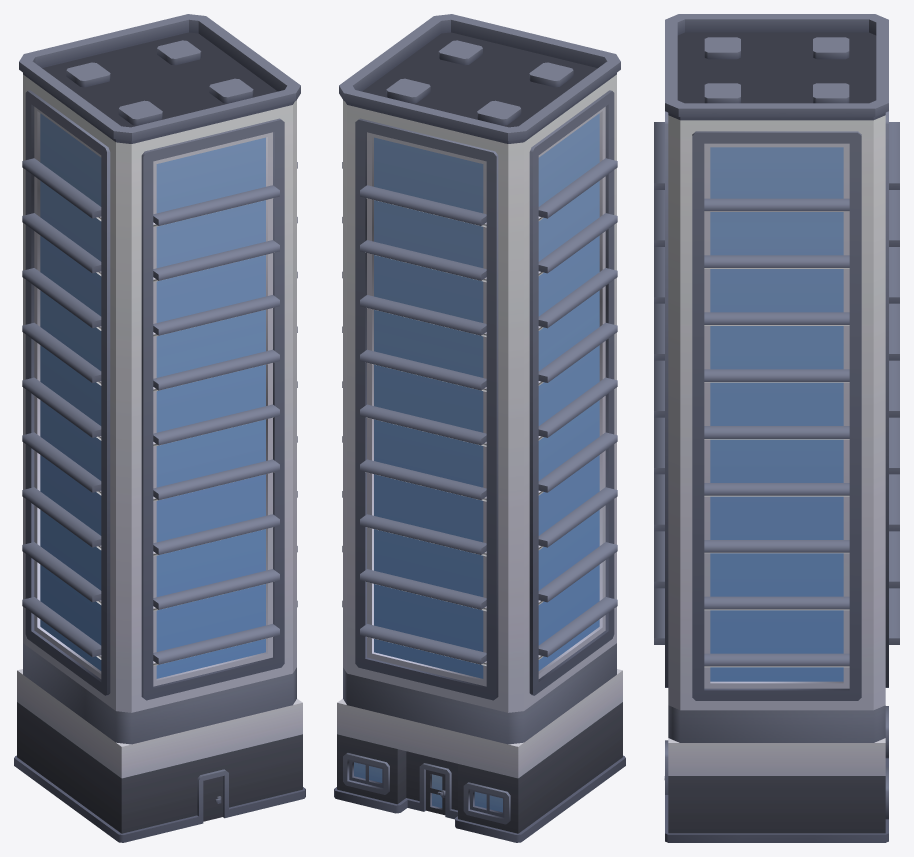
File: building-skyscraper-b.glb
3 views of the same model, side by side, from view 1: azimuth 30°, elevation 25°; view 2: azimuth 150°, elevation 25°; view 3: azimuth 270°, elevation 25° (orthographic). The views are drawn at different scales.
Parts seen in each view (by area): view 1: building-skyscraper-b; view 2: building-skyscraper-b; view 3: building-skyscraper-b.
Part boxes in pixels (box(x1,y1,x2,y2)): building-skyscraper-b: box(14, 14, 305, 842); building-skyscraper-b: box(334, 14, 625, 842); building-skyscraper-b: box(654, 14, 899, 842).
Size of the model in its own units: 1.36 by 4.48 by 1.36.
Materials: 1 (1 with a texture image).
